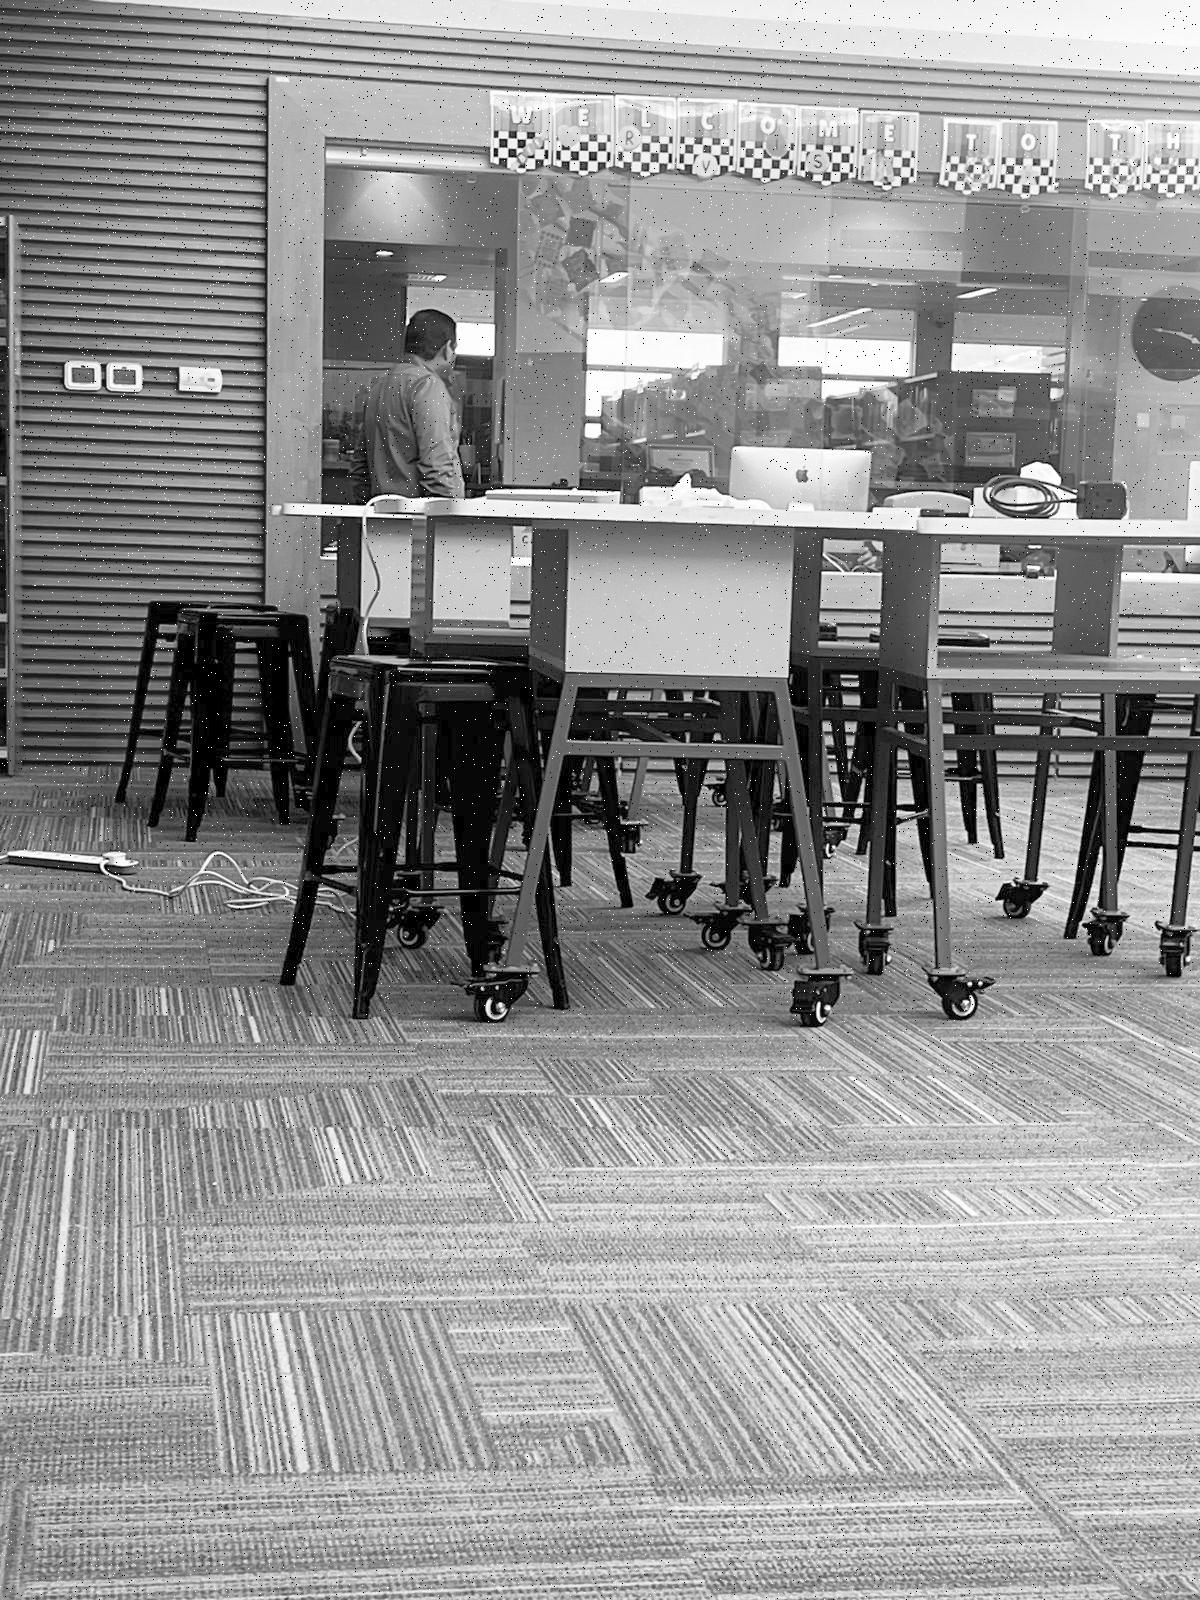Chair: (164, 609, 568, 1020)
Table: (361, 493, 1016, 687), (1040, 519, 1184, 659)
